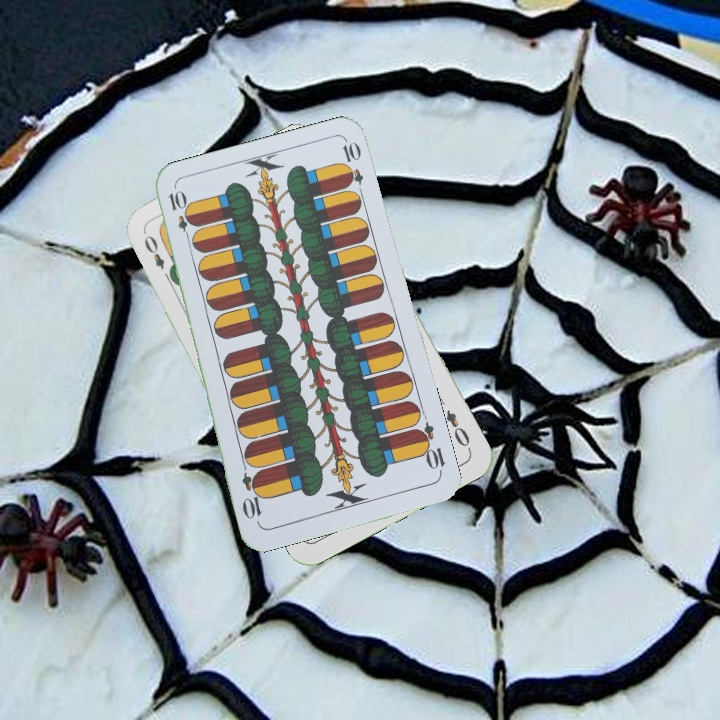E10: (411, 419, 448, 477), (164, 186, 195, 245)
EO: (140, 231, 176, 285), (442, 406, 474, 454)
